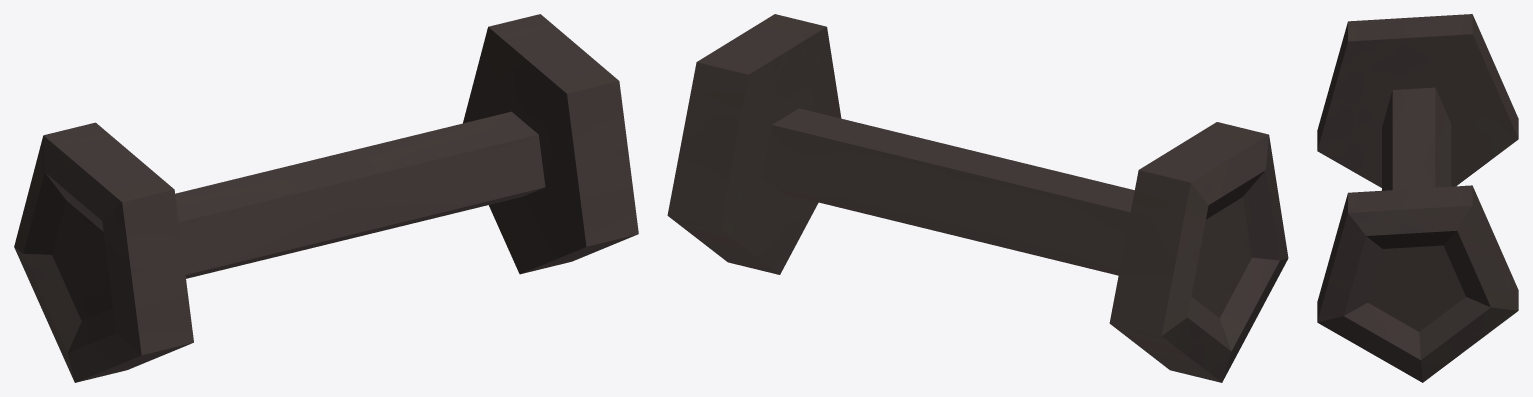
Rendered from ArtilleryWheels.fbx.
3 views of the same model, side by side, from view 1: azimuth 30°, elevation 25°; view 2: azimuth 150°, elevation 25°; view 3: azimuth 270°, elevation 25° (orthographic). The views are drawn at different scales.
Parts seen in each view (by area): view 1: Cylinder.005; view 2: Cylinder.005; view 3: Cylinder.005.
Part boxes in pixels (<box>): Cylinder.005: <box>14,14,638,382</box>; Cylinder.005: <box>667,14,1288,382</box>; Cylinder.005: <box>1317,14,1518,382</box>.
Size of the model in its own units: 47.42 by 19.81 by 20.39.
